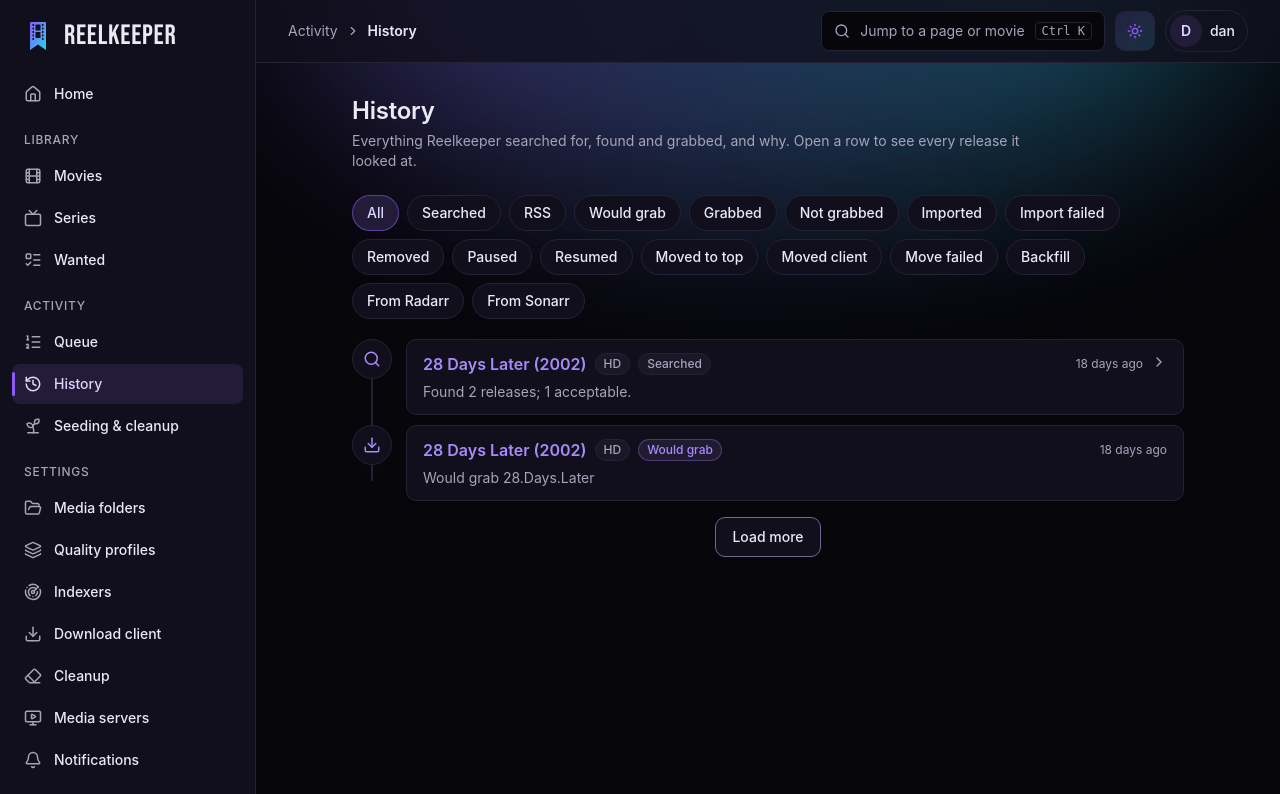
Test case: History page › loads more with the next-page cursor
The width and height of the screenshot is (1280, 794).
Click the button "Load more". click: (768, 537)
box: [715, 517, 820, 557]
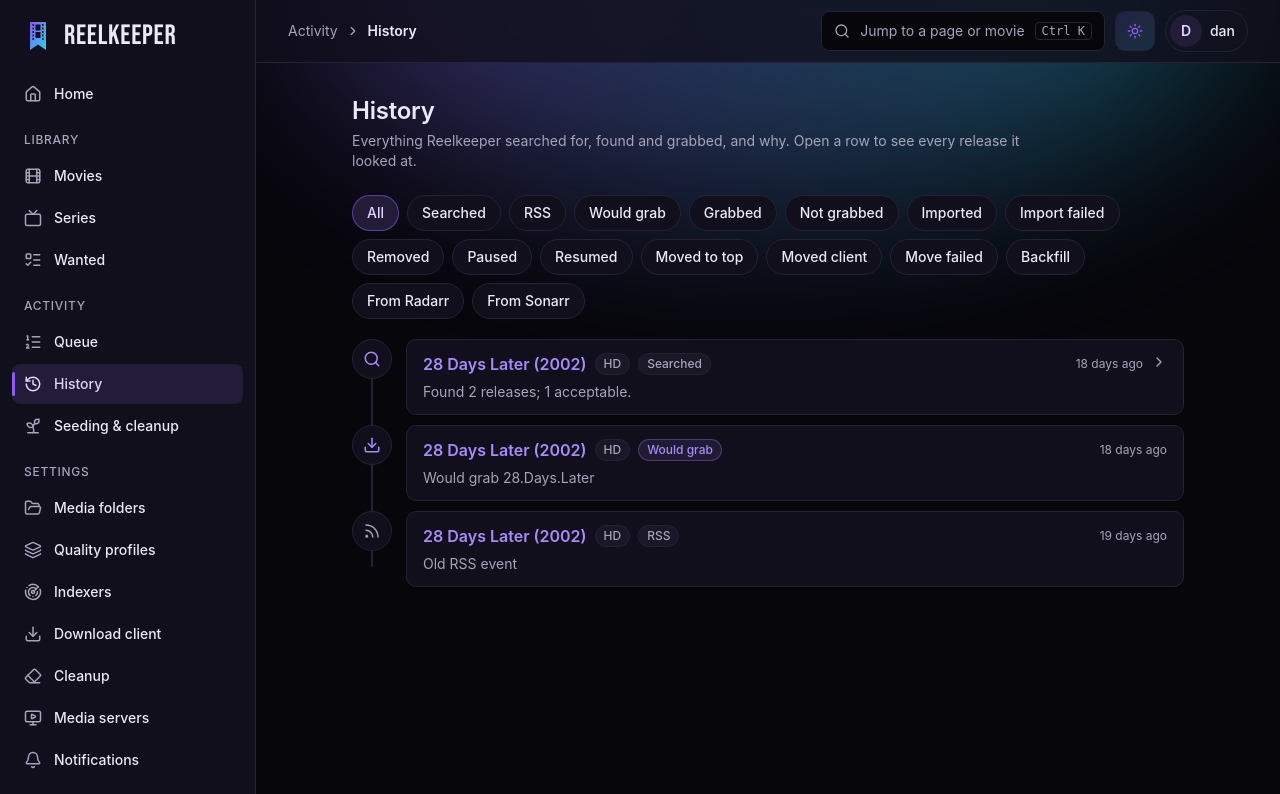
Check: the text "Old RSS event" is shown, box [423, 555, 517, 572]
Check: the button "Load more" is gone
